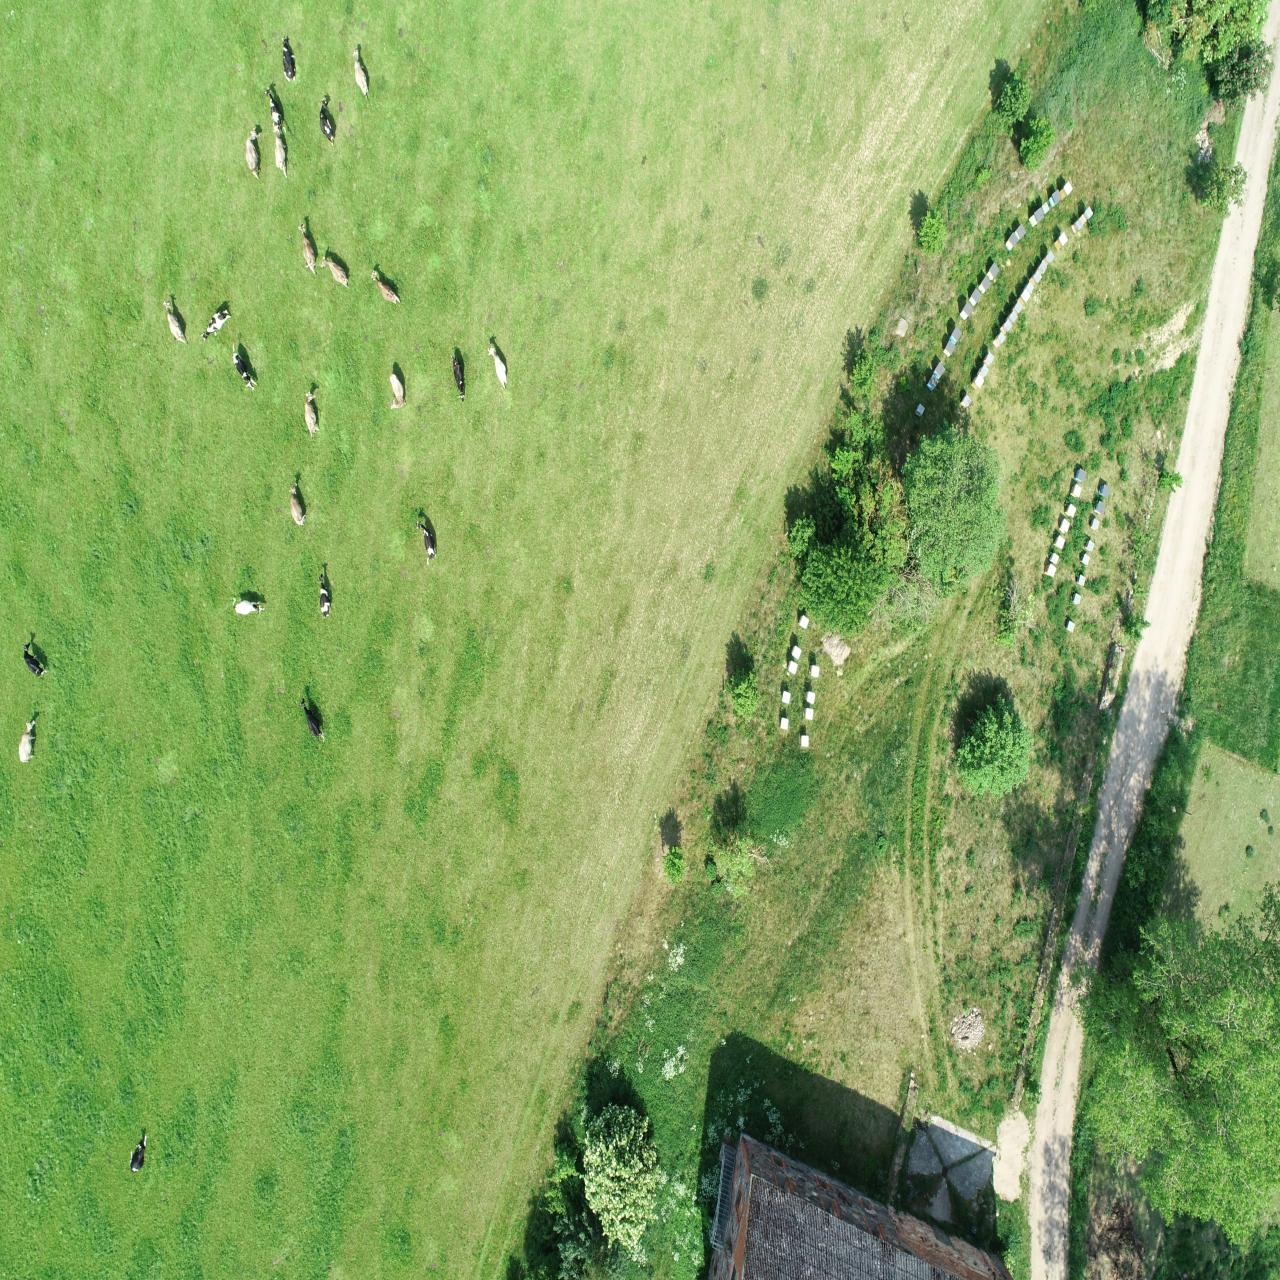cow: (297, 692, 331, 748), (229, 340, 261, 394), (161, 298, 190, 350), (368, 266, 403, 309), (414, 517, 442, 571), (14, 716, 41, 769), (297, 222, 320, 280), (350, 46, 373, 104), (19, 641, 50, 682), (261, 86, 287, 135), (285, 479, 311, 529), (241, 124, 263, 183), (318, 254, 352, 291), (199, 306, 232, 343), (271, 122, 291, 183), (316, 95, 339, 148), (486, 345, 510, 394), (315, 570, 336, 624), (448, 352, 469, 404), (279, 34, 300, 84), (128, 1132, 150, 1175), (302, 390, 320, 443), (388, 372, 408, 415), (231, 597, 267, 620)
